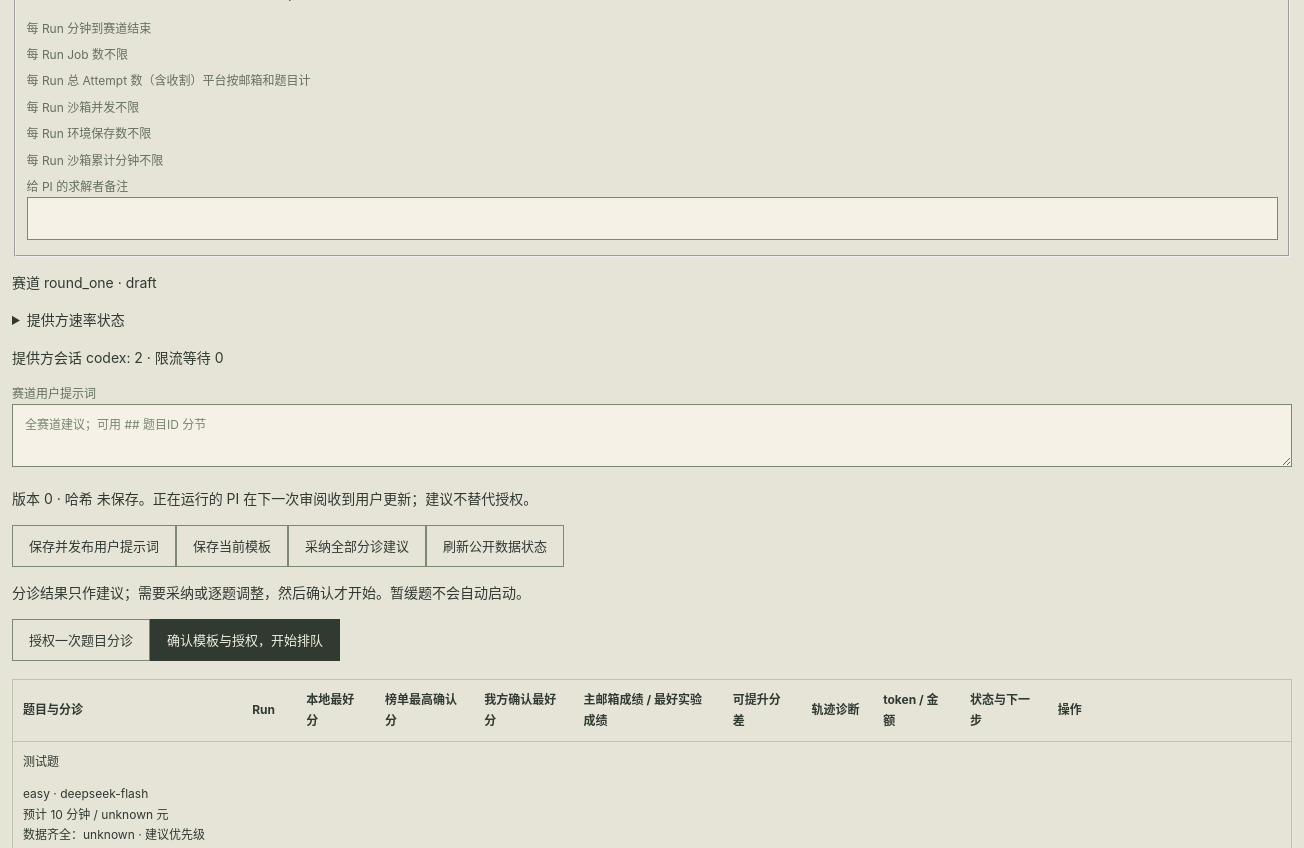
Test: publishes one user prompt version and disables confirmation until saved
(page scrolled)
Type "用户建议" into the text box labelled "赛道用户提示词" at [652, 436], box [12, 404, 1292, 467]
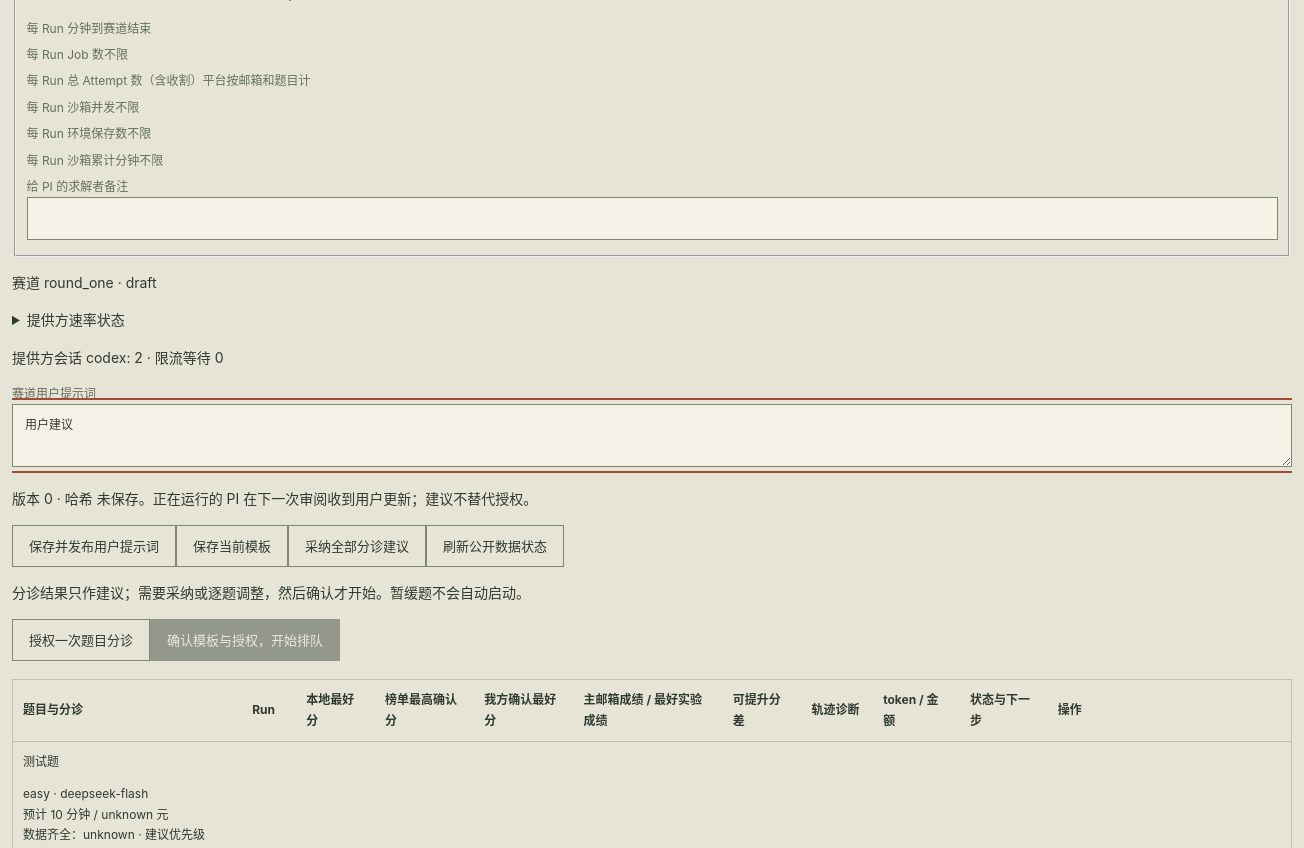
Expected: the button "确认模板与授权，开始排队" is disabled, [150, 619, 340, 661]
Click the button "保存并发布用户提示词" at [94, 546], box [12, 525, 176, 567]
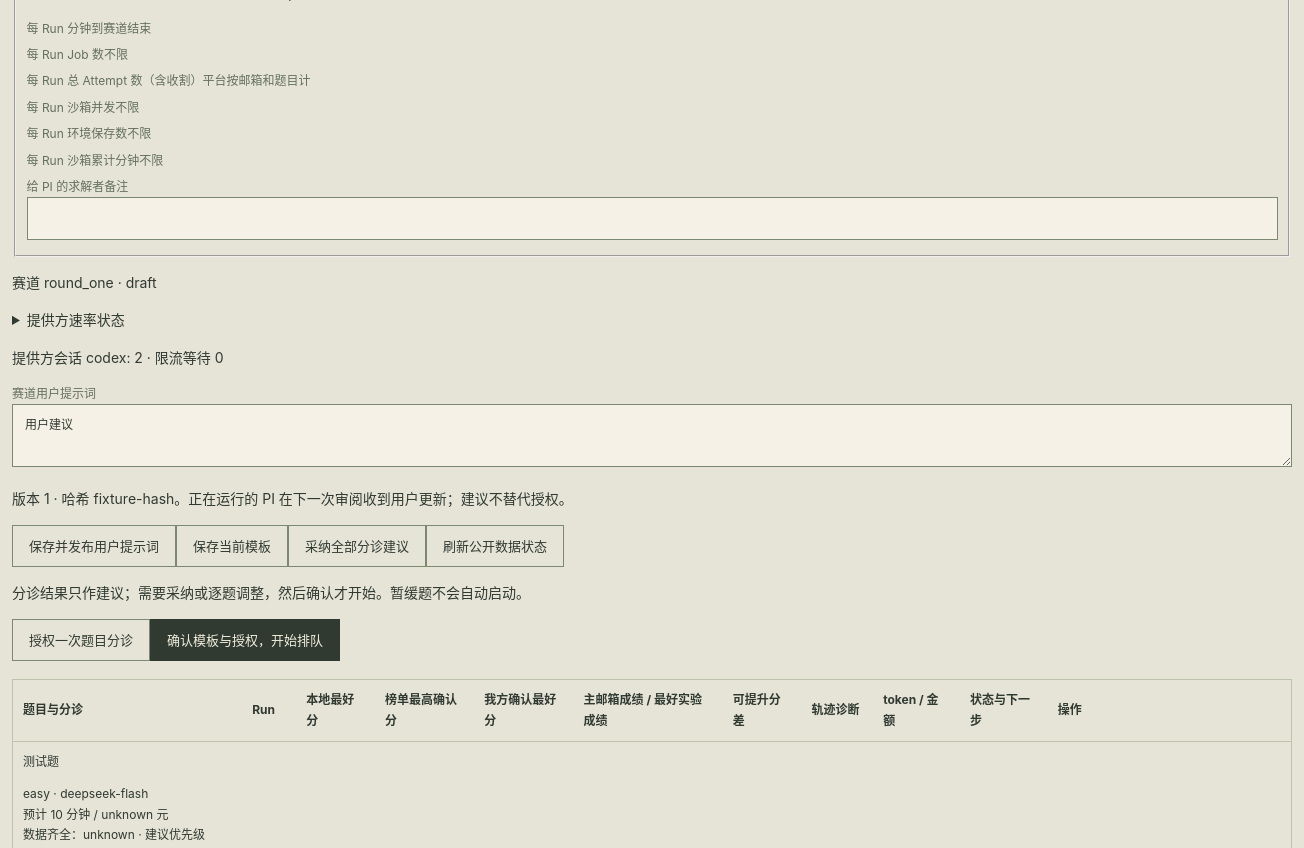
Expected: the text "赛道 round_one · draft" is shown, [12, 274, 157, 290]
Expected: the text "版本 1 · 哈希 fixture-hash。正在运行的 PI 在下一次审阅收到用户更新；建议不替代授权。" is shown, [12, 490, 573, 508]
